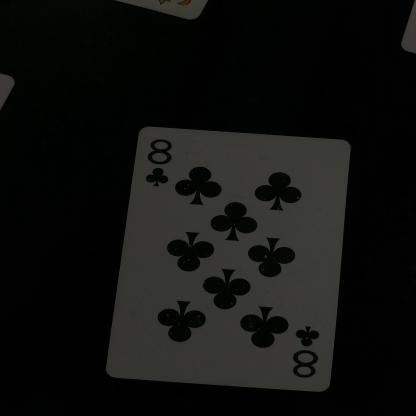8C: (134, 138, 180, 199), (289, 314, 326, 386)
